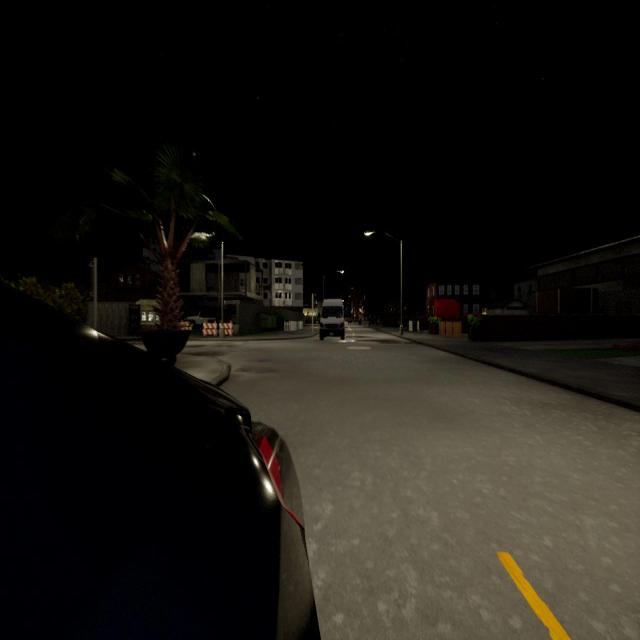Vehicle: (0, 283, 320, 638), (318, 300, 347, 340), (184, 308, 217, 322)
